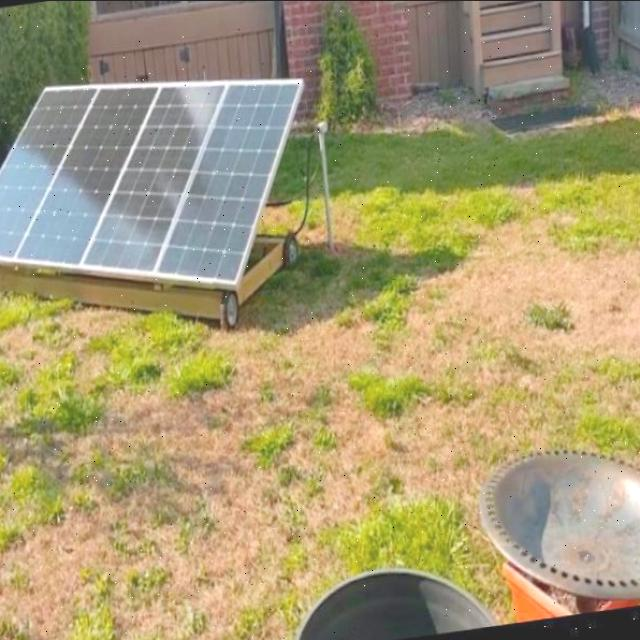Normal Solar Panel: (0, 53, 323, 319)
